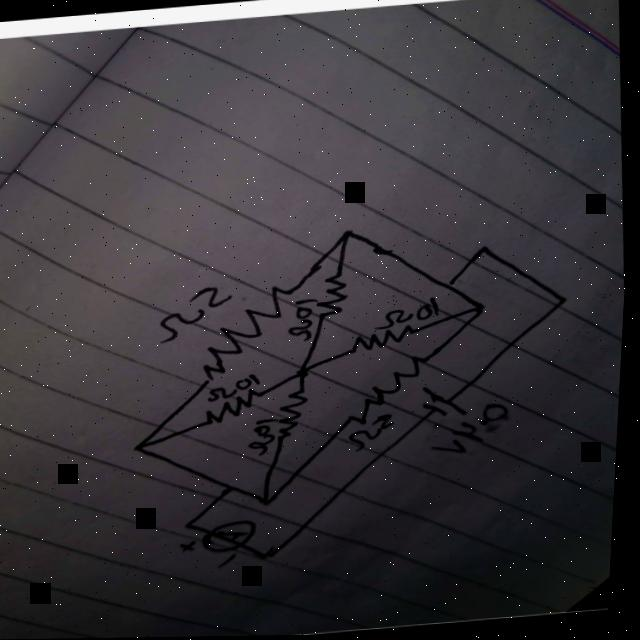junction: (338, 226, 362, 245), (469, 301, 493, 320), (475, 241, 499, 260), (554, 294, 578, 313), (257, 492, 281, 511), (136, 436, 160, 455), (441, 279, 464, 298), (183, 518, 202, 535), (226, 481, 246, 497), (258, 550, 278, 565), (293, 365, 313, 380)
resistor: (196, 282, 298, 383), (343, 353, 435, 428), (272, 388, 316, 444), (351, 323, 423, 357), (203, 388, 268, 425), (315, 274, 354, 320)
source: (418, 383, 474, 423)
text: (157, 284, 239, 346), (429, 402, 516, 459), (373, 295, 446, 331), (349, 413, 403, 453), (285, 296, 325, 344), (208, 373, 266, 403), (249, 416, 287, 459)
